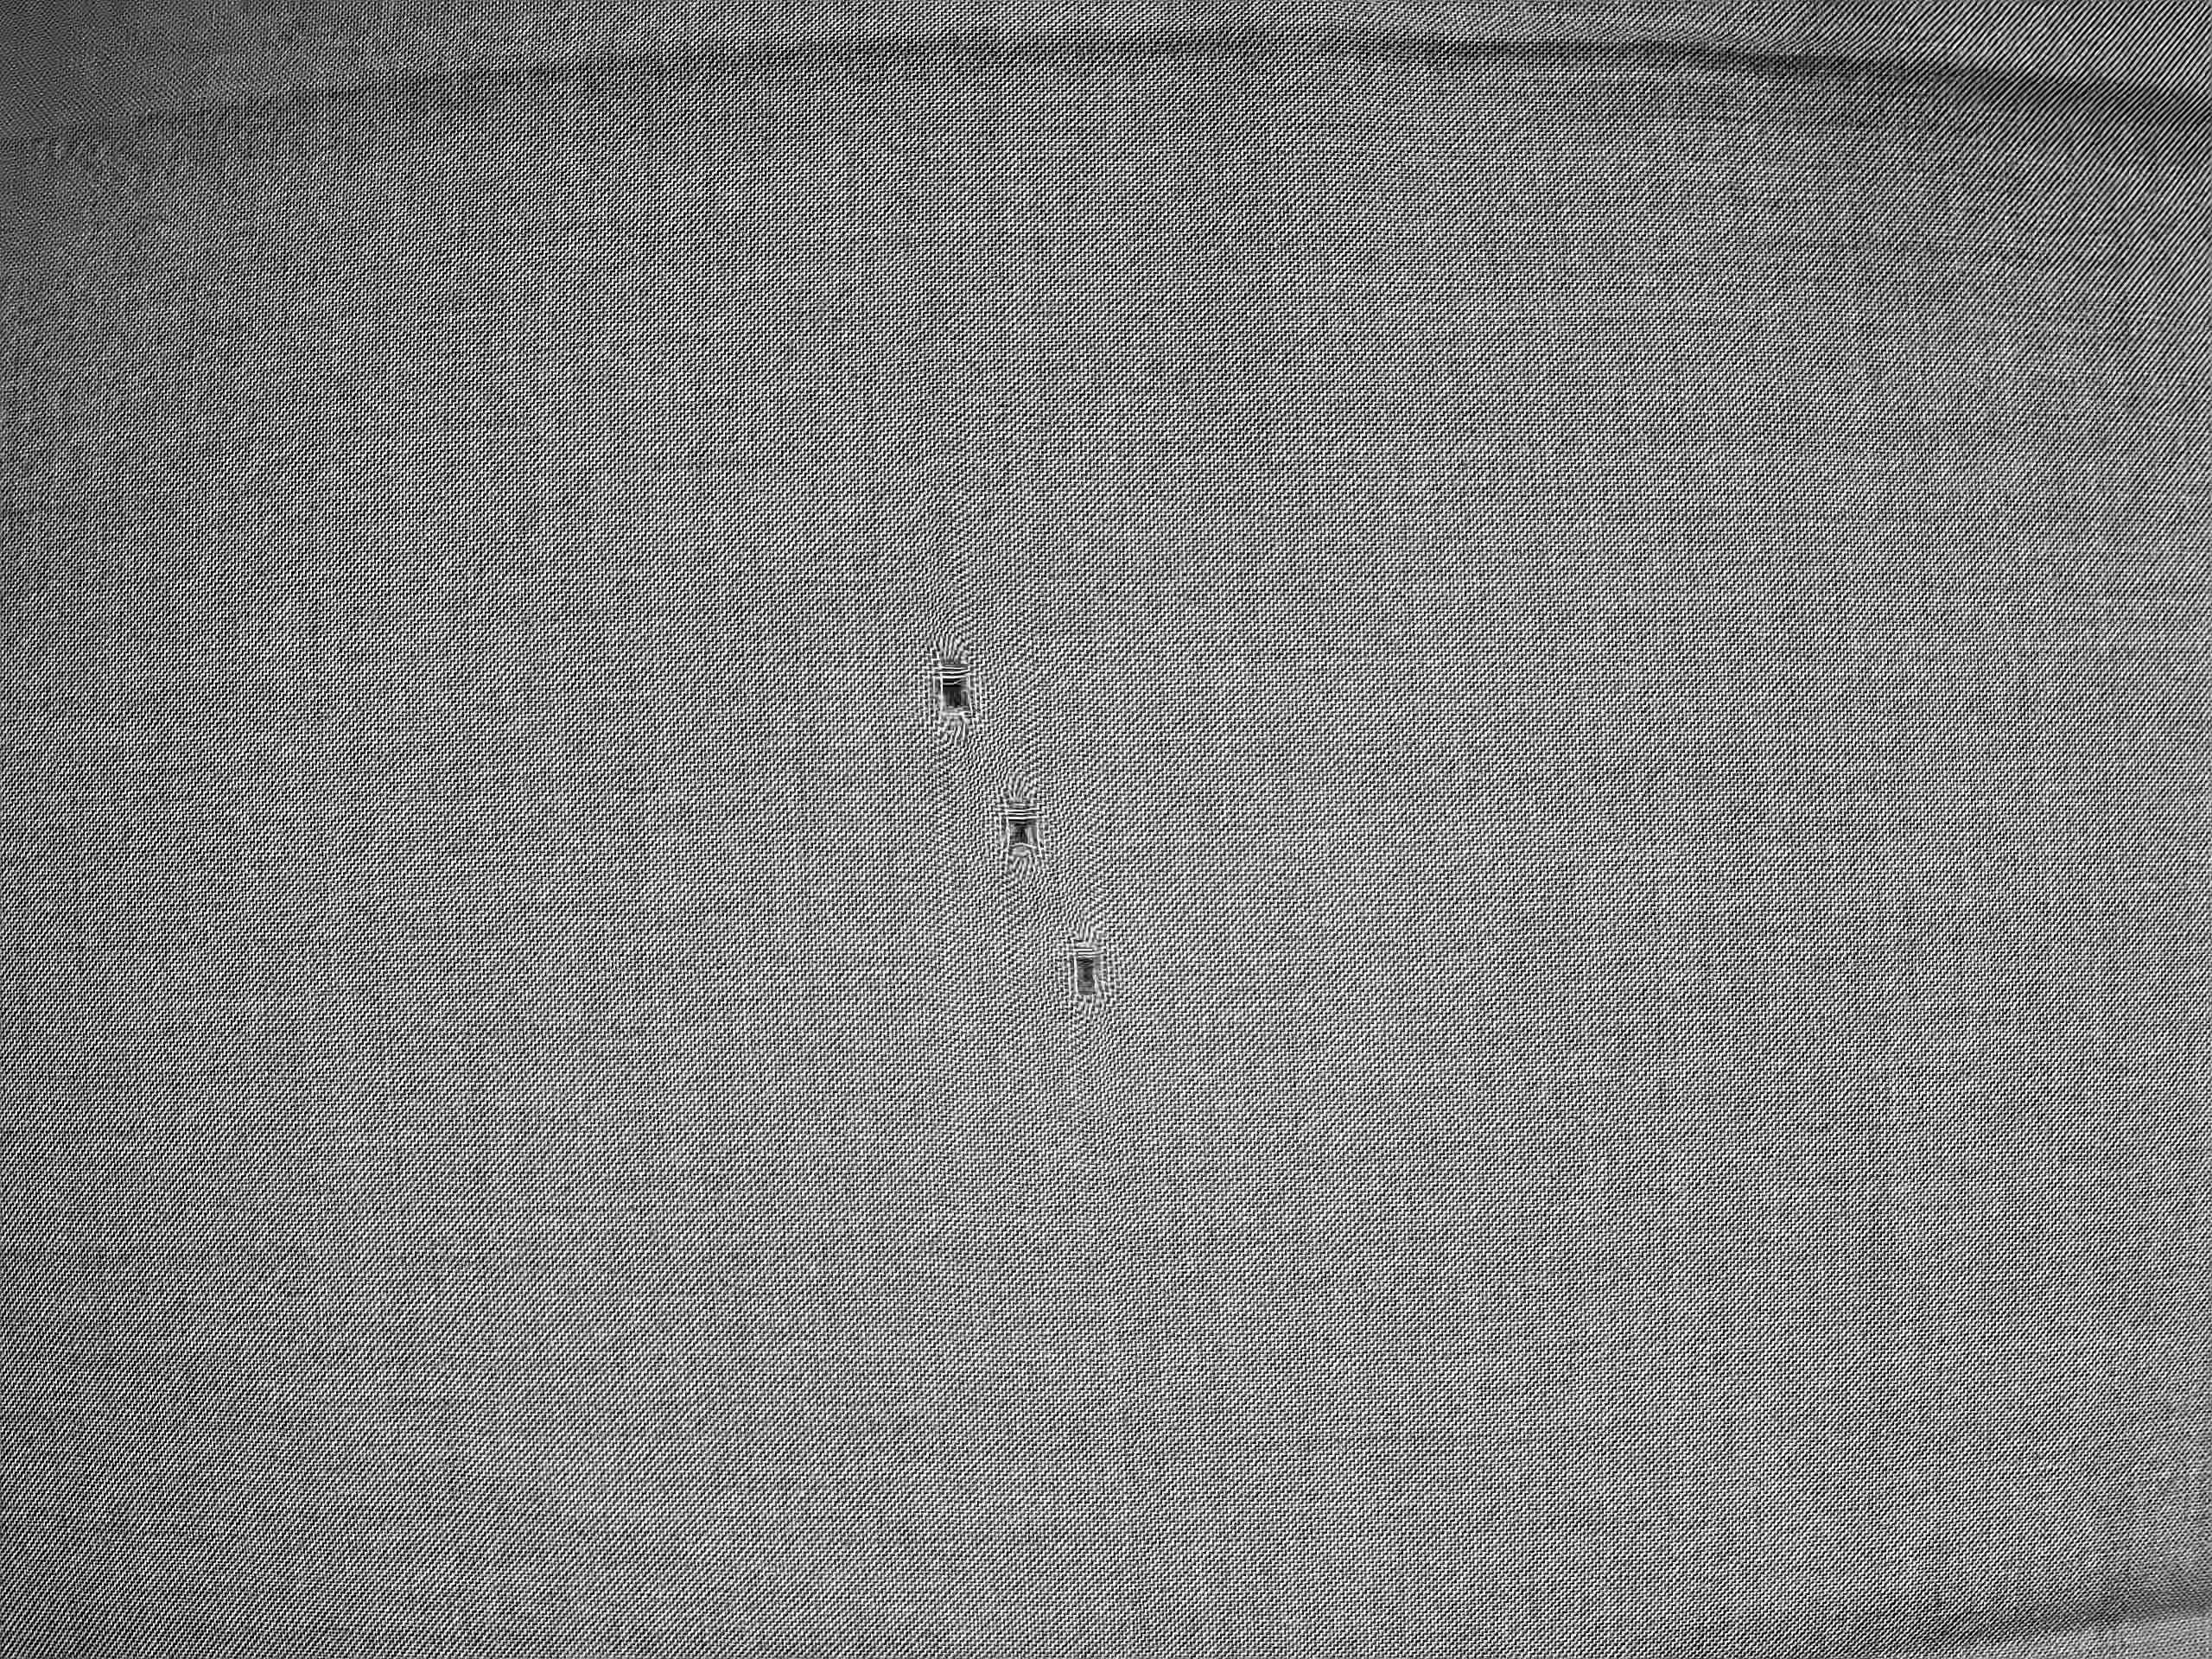brushed-hole: (977, 777, 1073, 880), (914, 627, 996, 728), (1049, 925, 1125, 1014)
